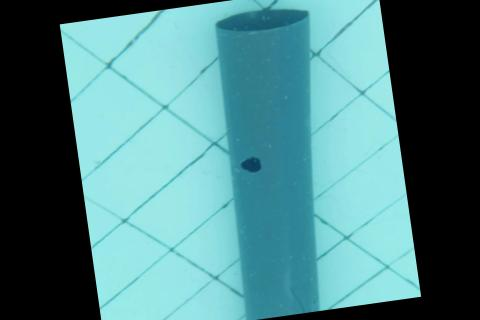kebocoran: (237, 153, 262, 172)
keretakan: (288, 286, 311, 314)
